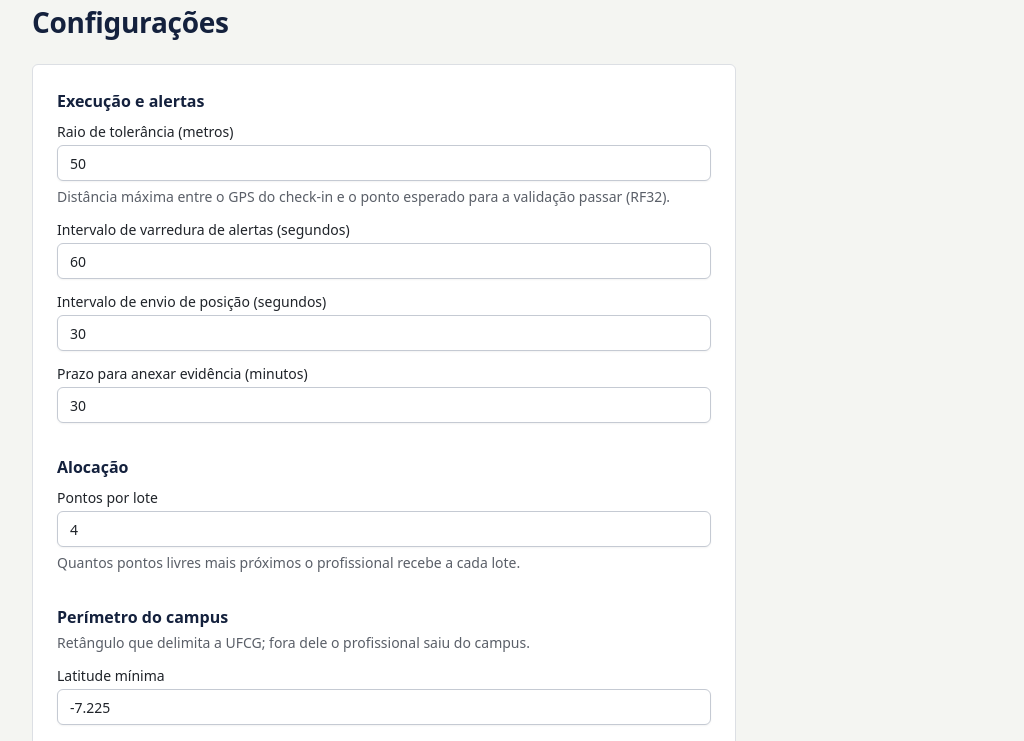
Test: SettingsPage › blocks a campus perimeter whose minimum is not below its maximum
Replace the text in the number field labelled "Latitude mínima" with "-7.1" at x=384, y=707, box [57,689,711,725]
(page scrolled)
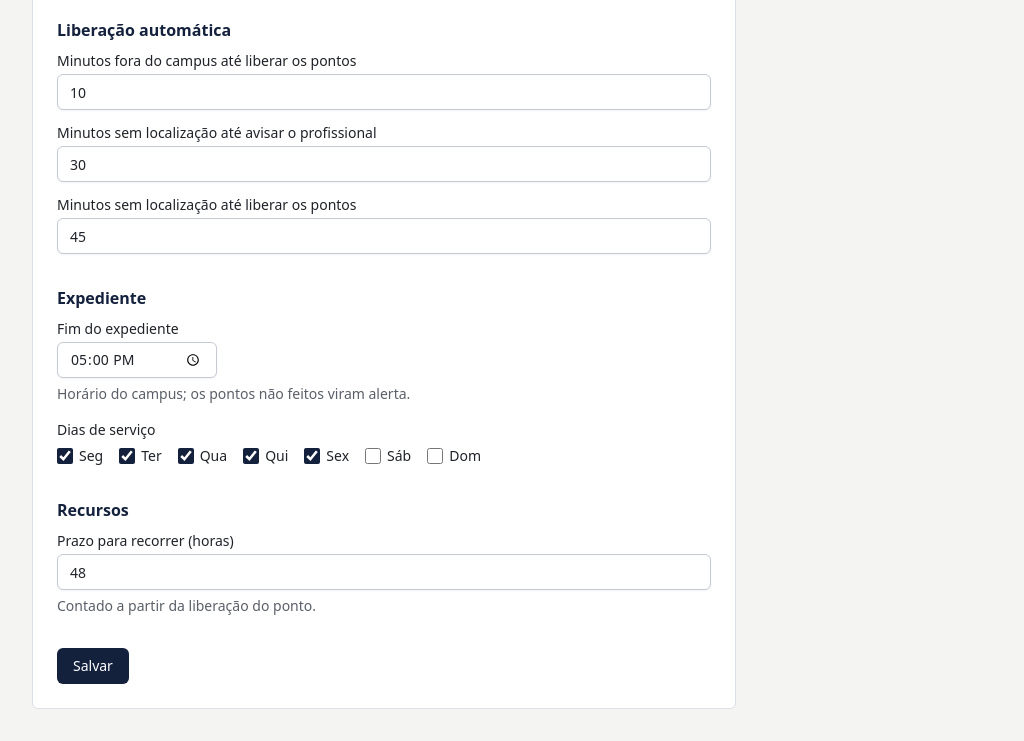
Click the button "Salvar".
click(93, 666)  # box [57,648,129,684]
(page scrolled)
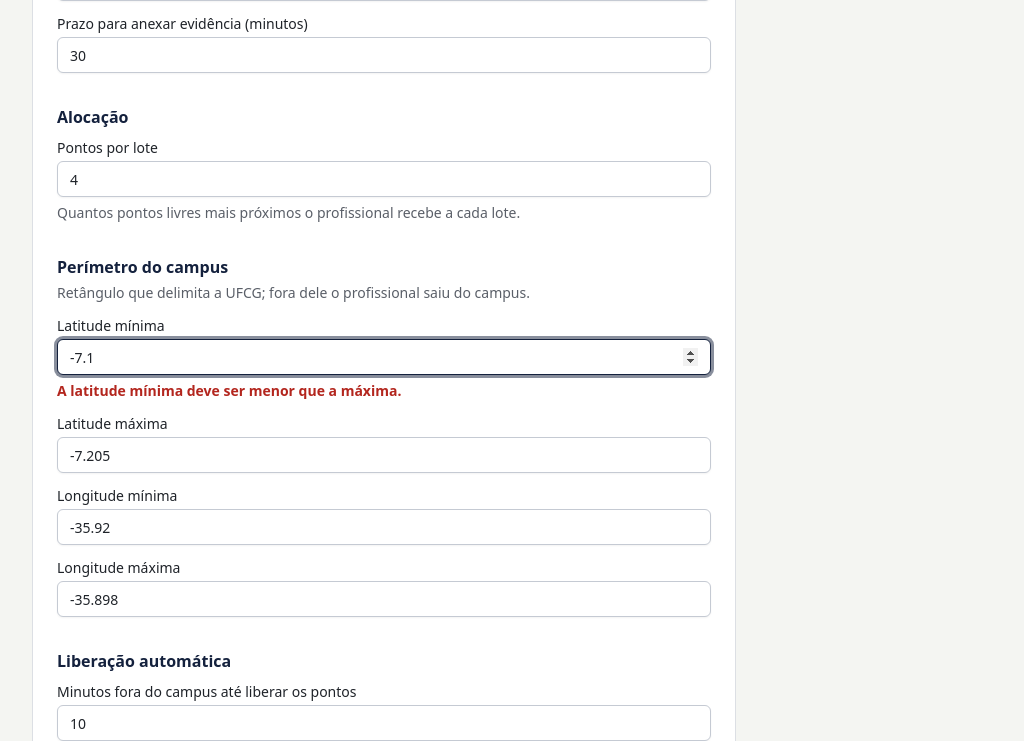
Now the text "A latitude mínima deve ser menor que a máxima." is shown, box [57,381,401,400]
